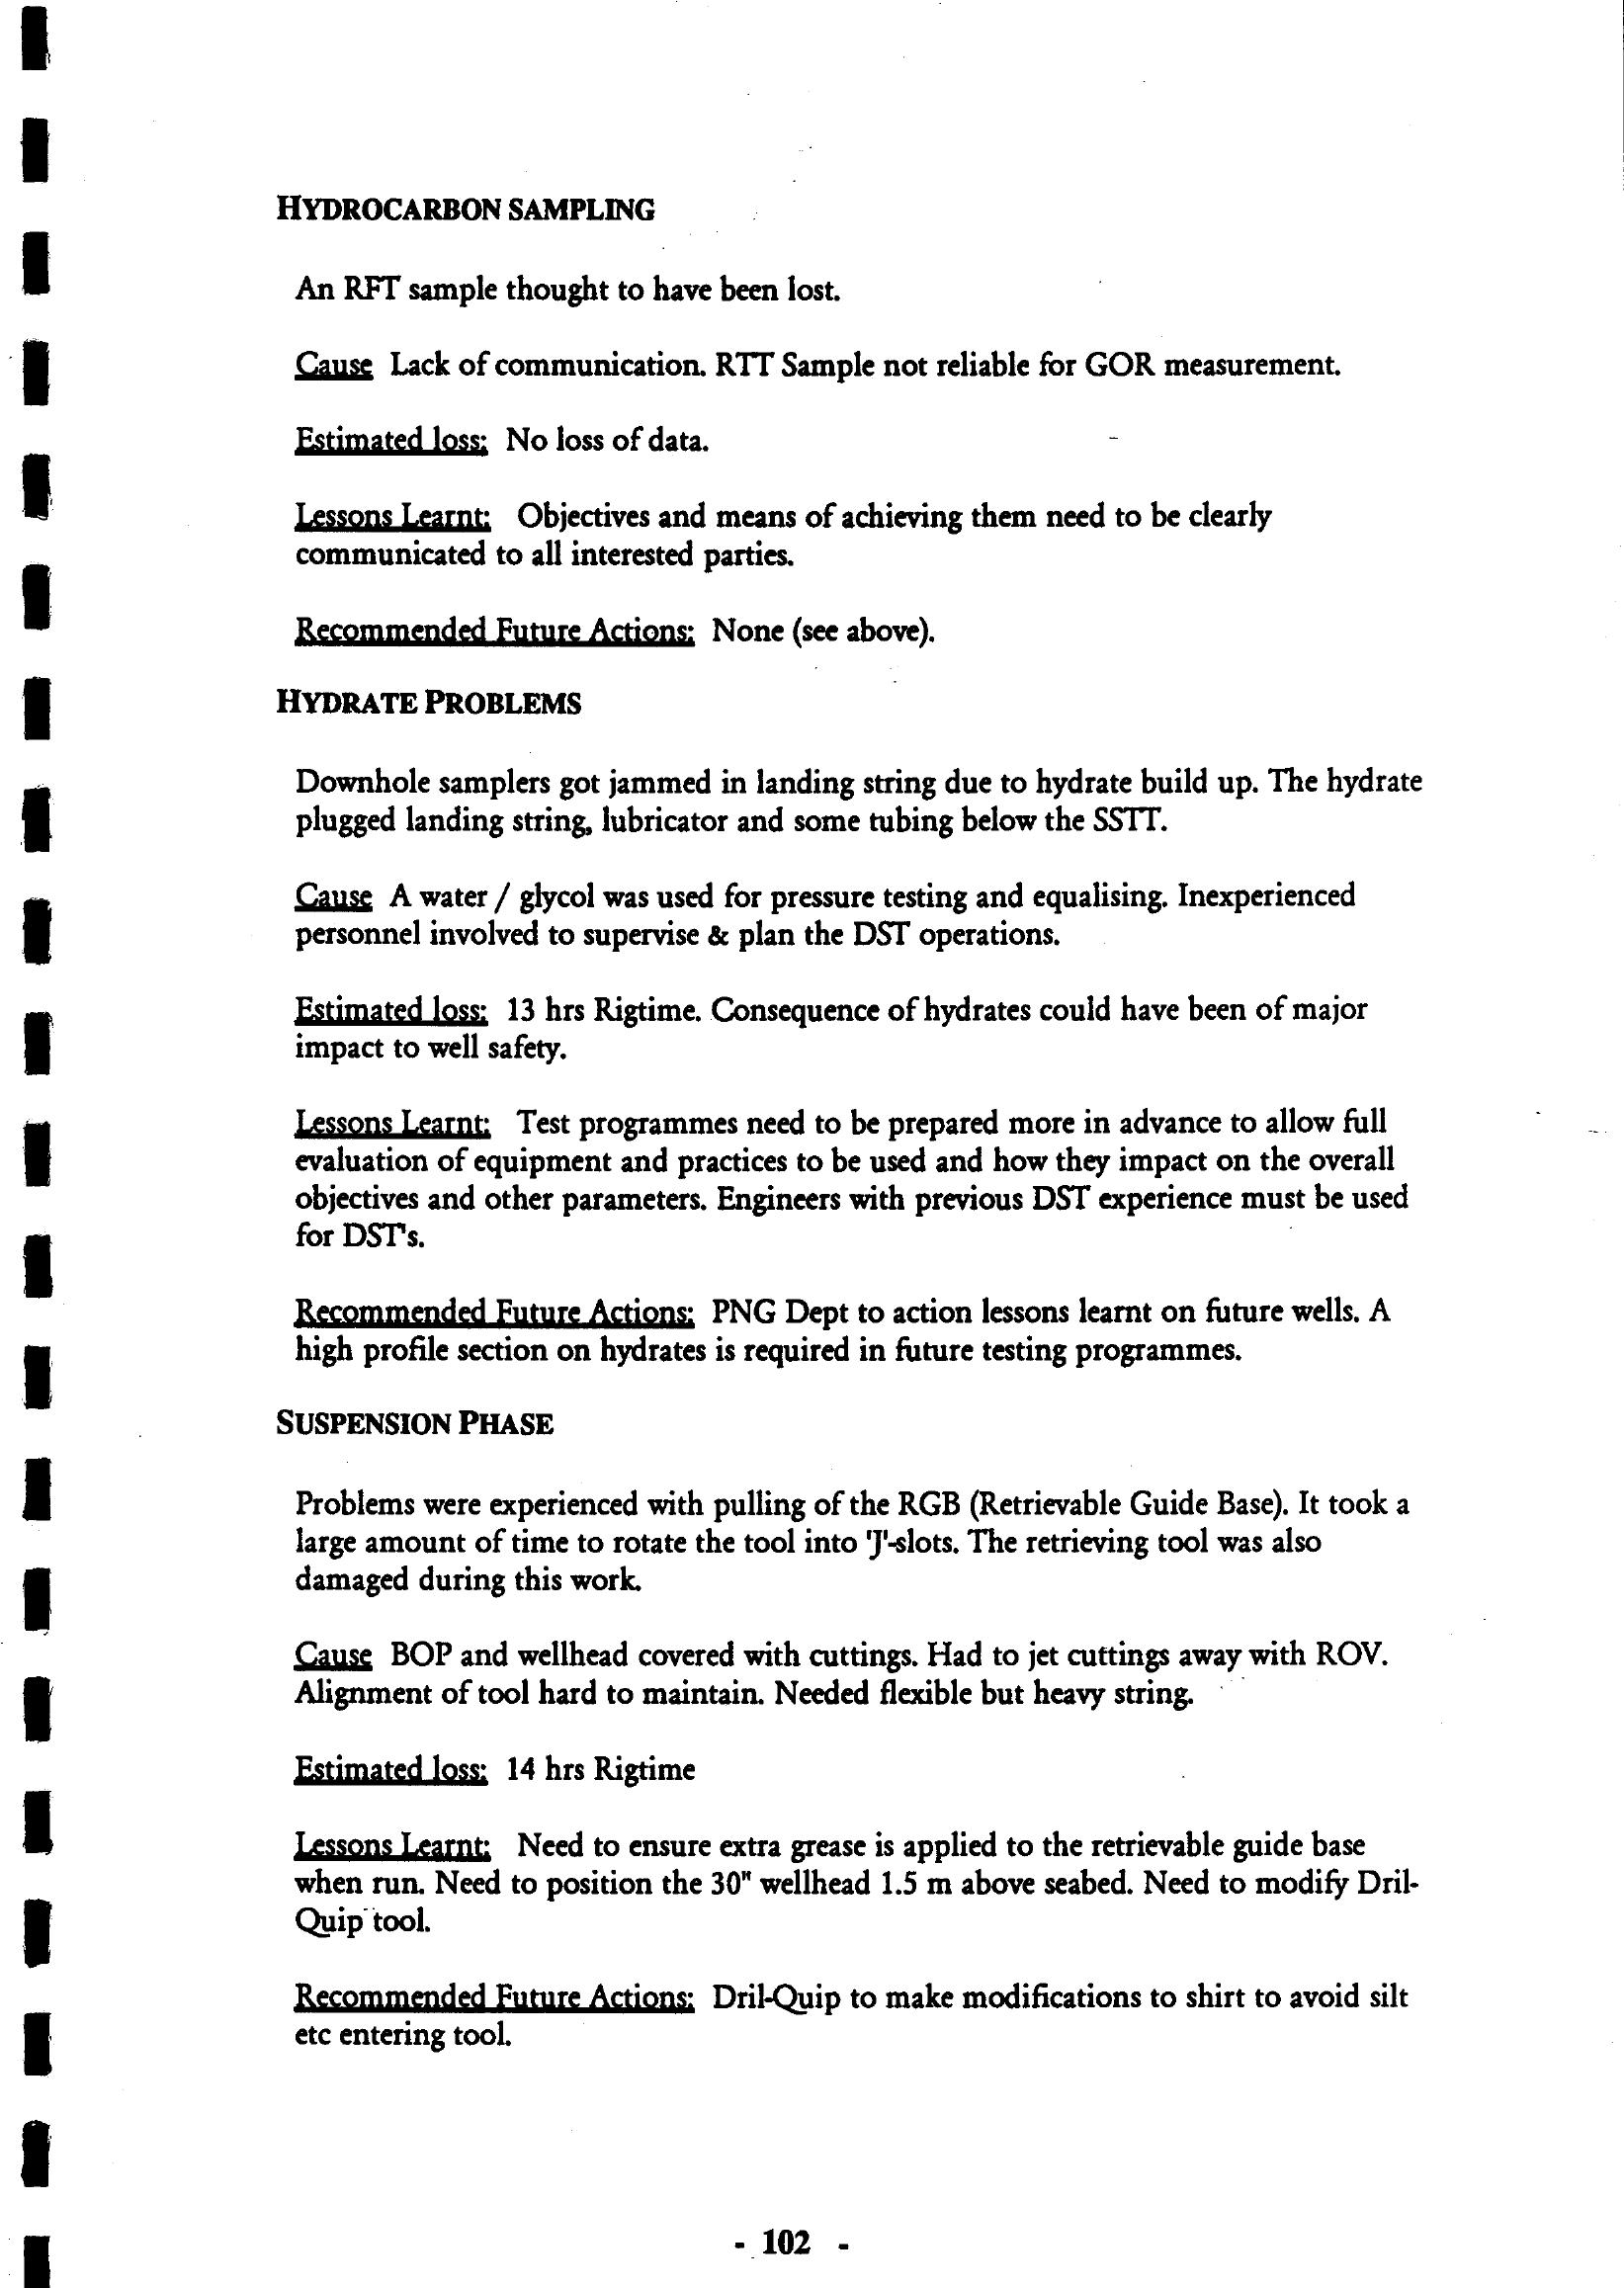text: (221, 135, 1501, 2149)
